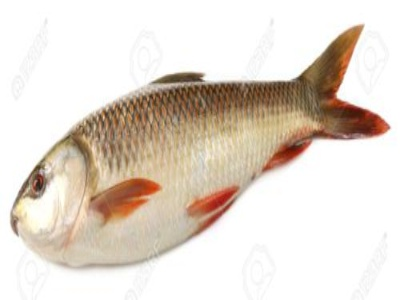rohu: (6, 21, 390, 278)
